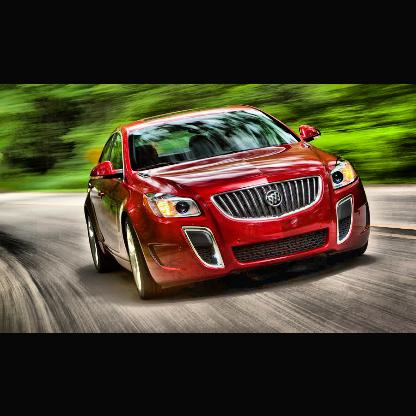Buick Regal GS 2012: (84, 106, 372, 296)
